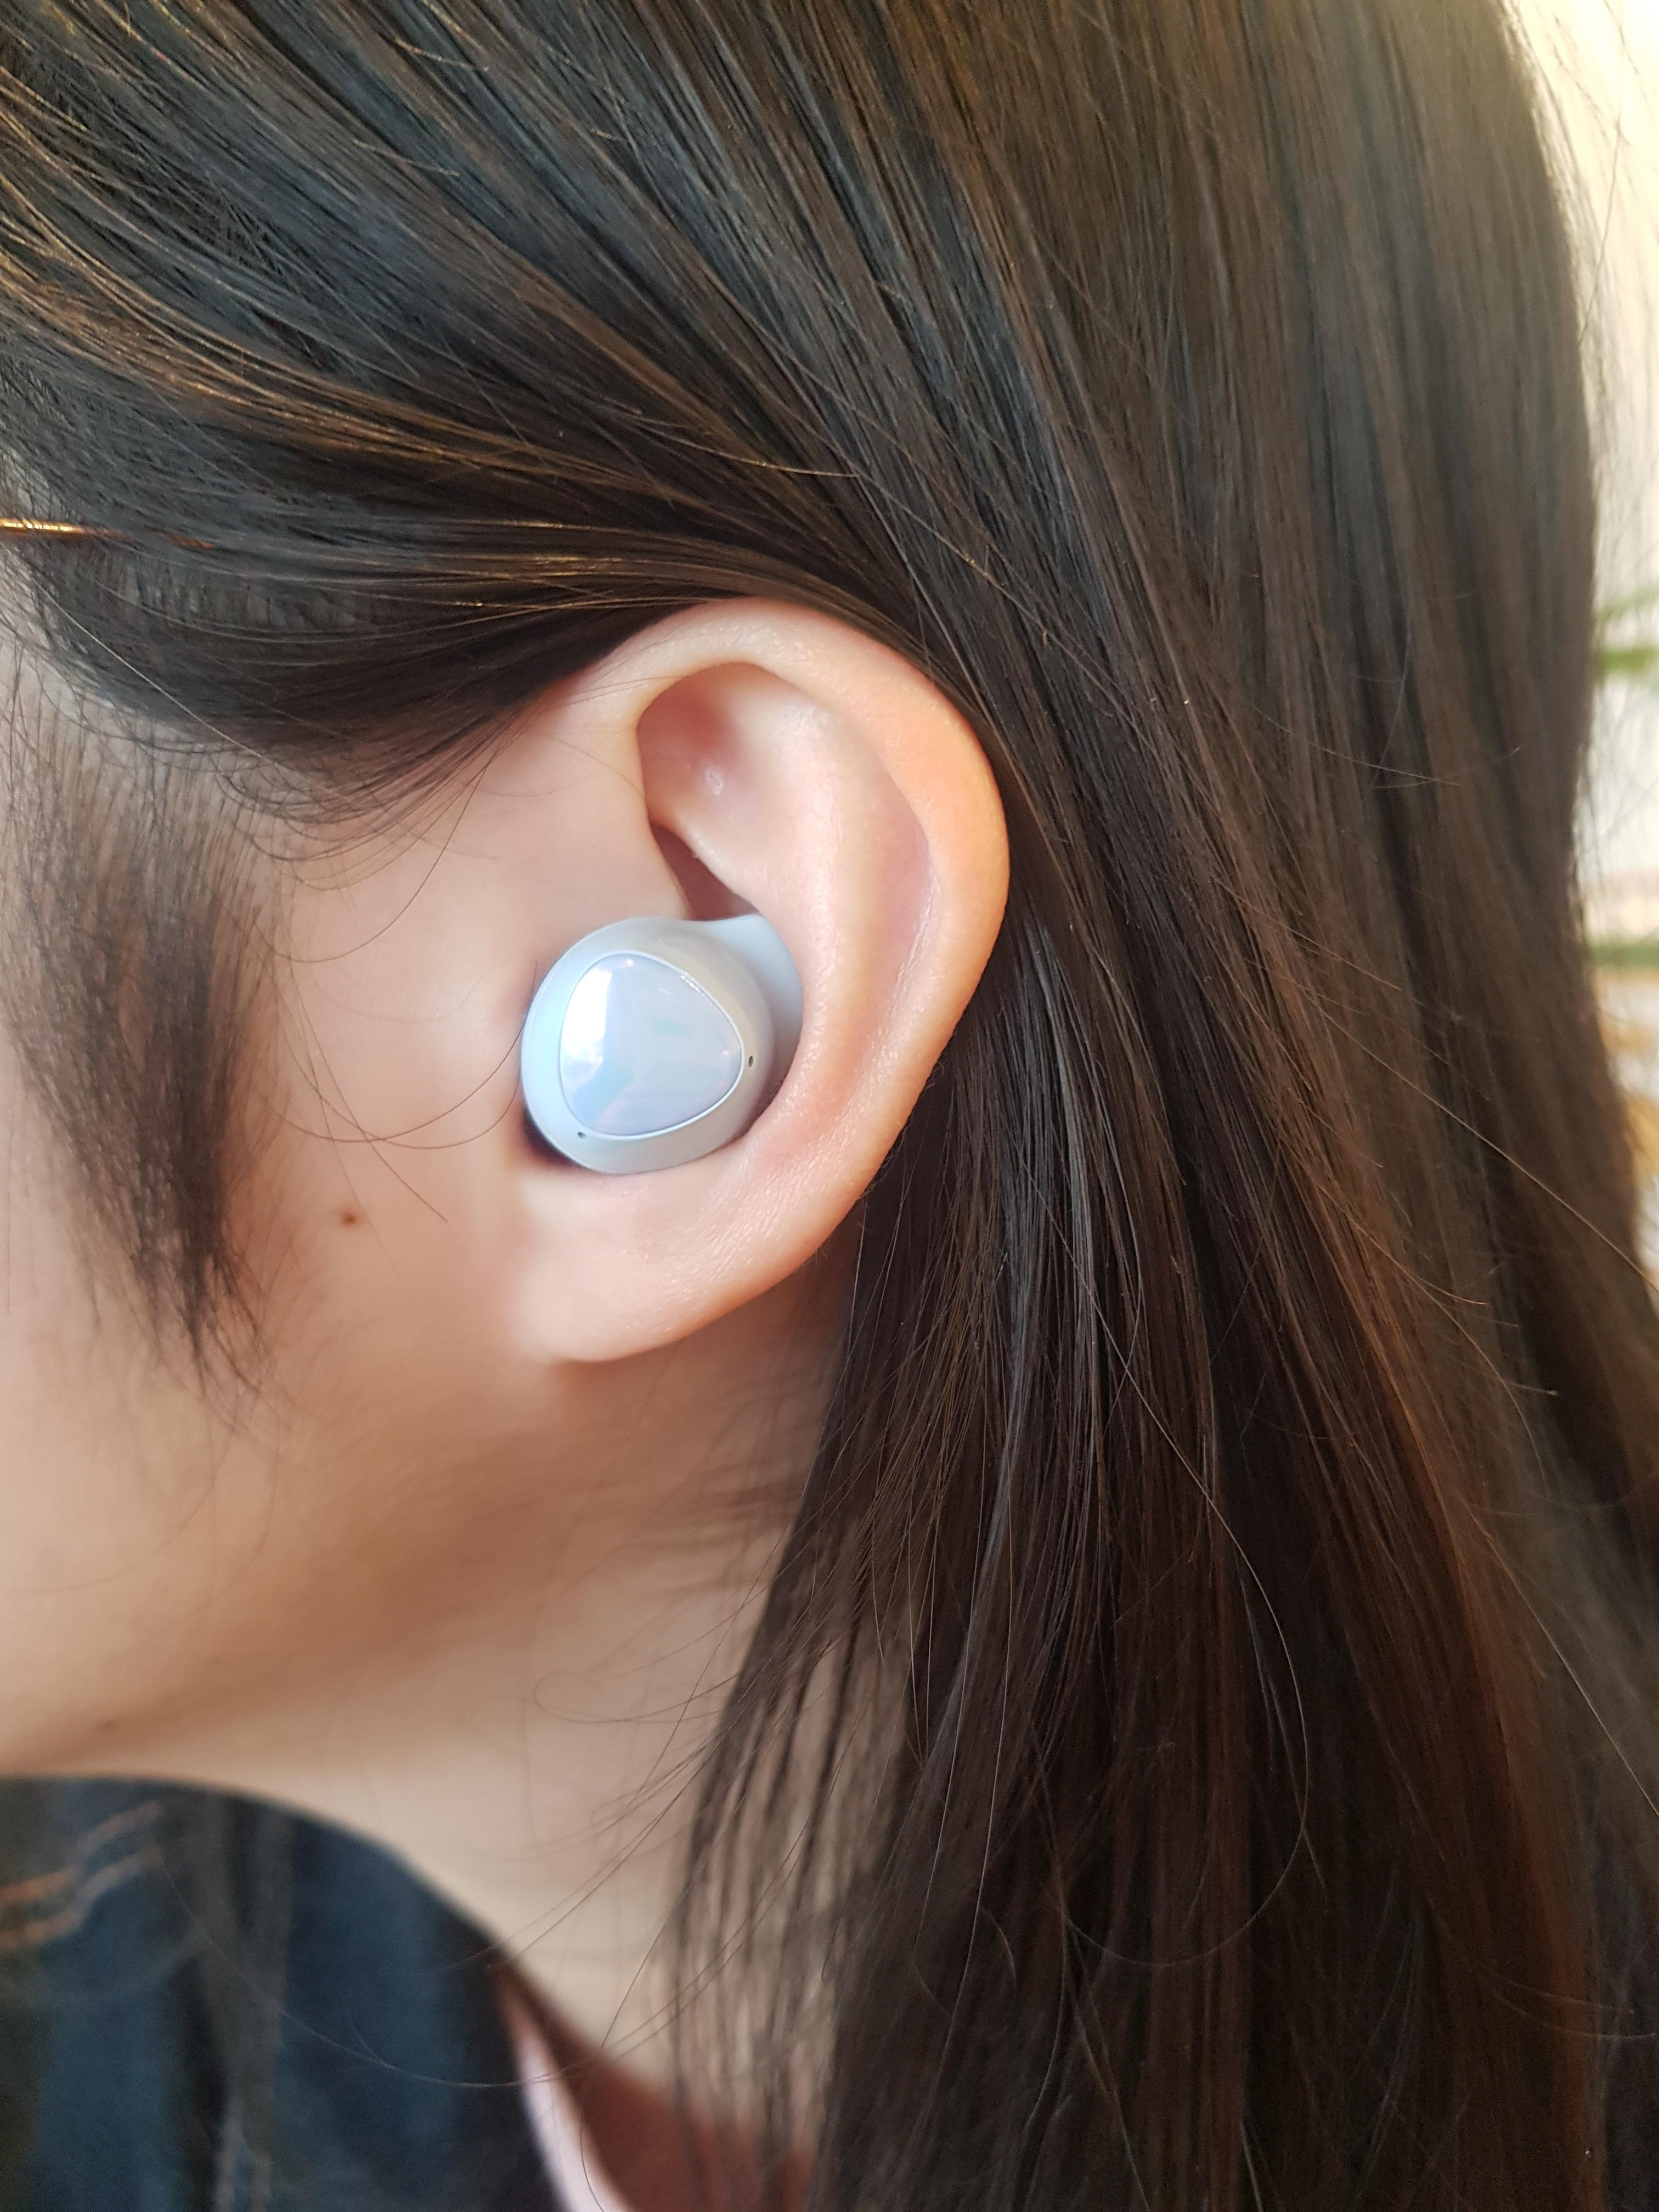earphone: (453, 597, 1009, 1364)
